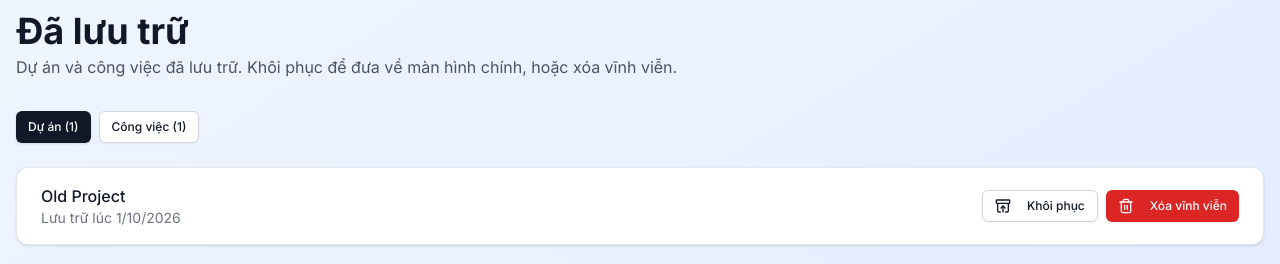
it: Archived page › switches to the tasks tab and lists archived tasks
Expected: the text "Old Project" is shown, [41,186,125,206]
Click the button "Công việc (1)": (149, 127) [98,111,199,143]
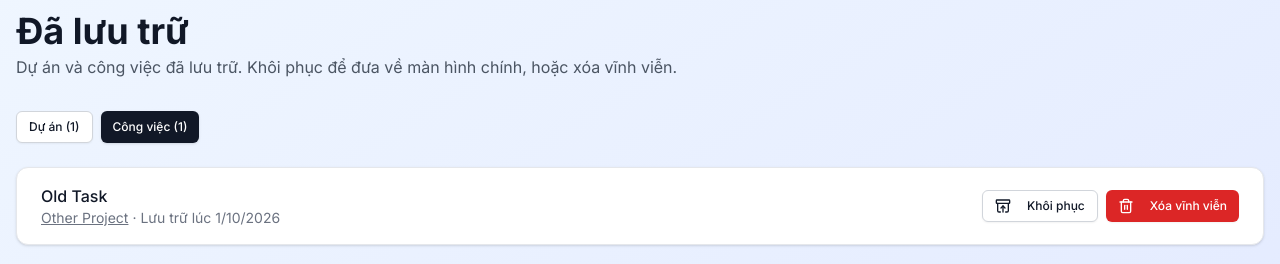
Expected: the text "Old Task" is shown, [41,186,107,206]
